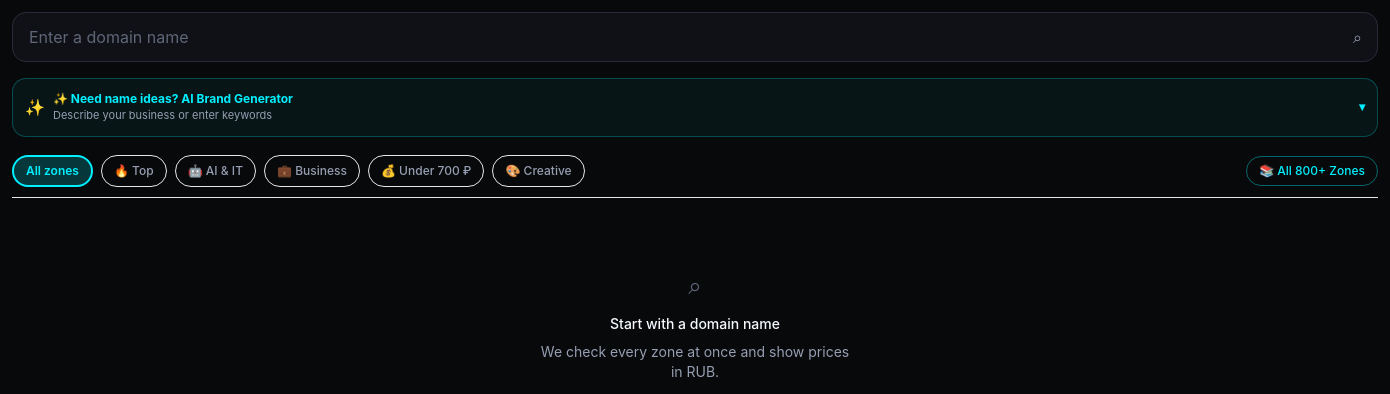
SearchScreen › shows a retryable error when the registrar is down
Type "down" into the field labelled "Enter a domain name" at (695, 37), box [12, 12, 1378, 62]
Then press Enter
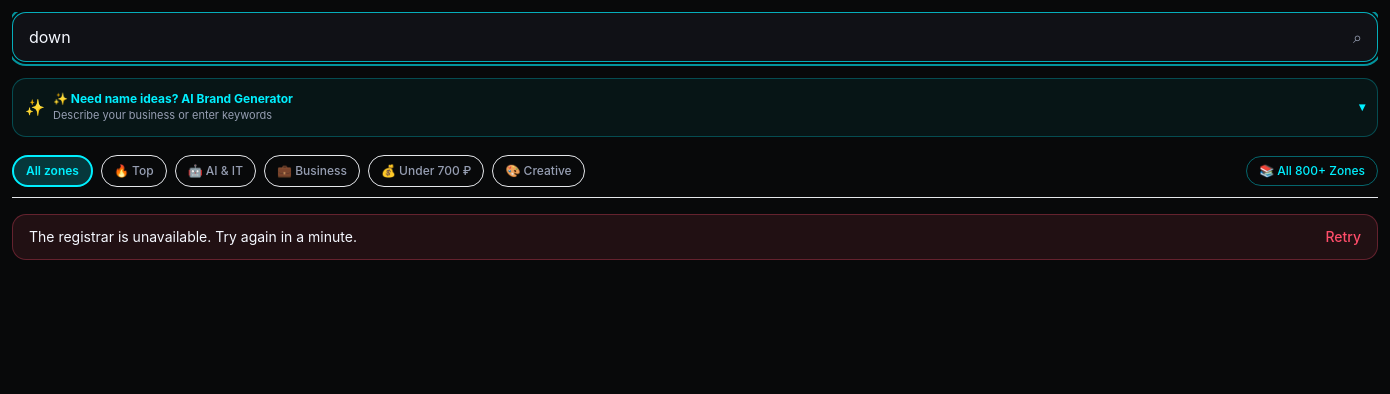
expect the message shows "The registrar is unavailable": met, box [29, 228, 357, 244]
expect the button "Retry" is shown: met, box [1325, 226, 1361, 246]
